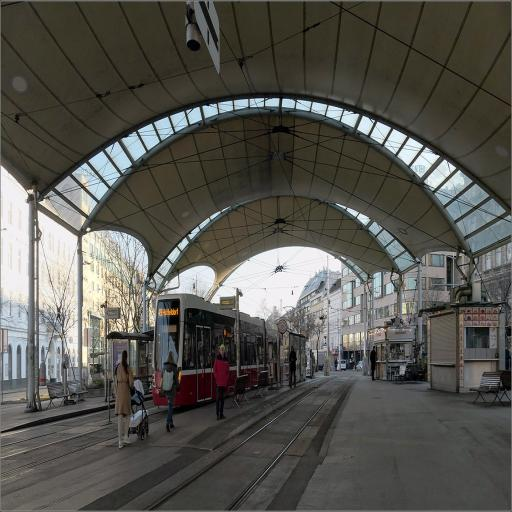Flexity: (151, 294, 280, 402)
